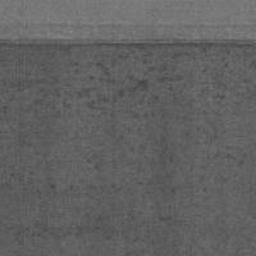Welding line: (0, 37, 256, 50)
